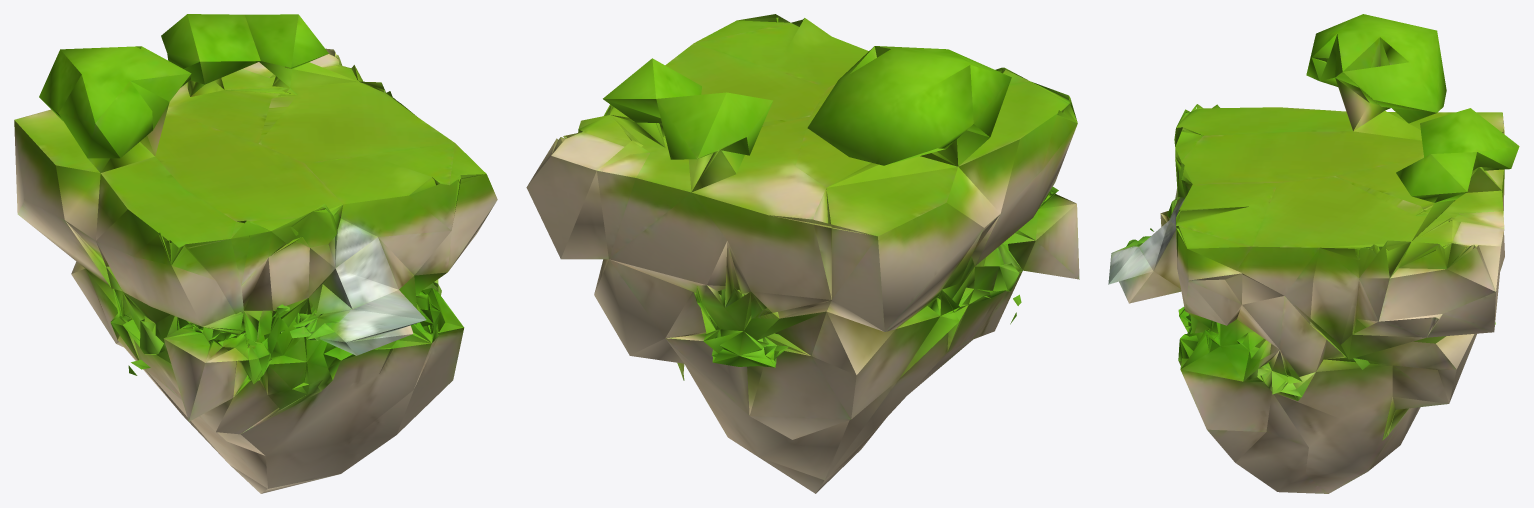
Rendered from islandC.glb.
3 views of the same model, side by side, from view 1: azimuth 30°, elevation 25°; view 2: azimuth 150°, elevation 25°; view 3: azimuth 270°, elevation 25° (orthographic). The views are drawn at different scales.
Visible parts, largest first — view 1: model; view 2: model; view 3: model.
Part boxes in pixels (x1,y1,x2,y2): model: [14, 14, 497, 493]; model: [526, 14, 1079, 493]; model: [1108, 14, 1519, 493].
Size of the model in its own units: 1.5 by 1.85 by 1.67.
Materials: 1 (1 with a texture image).
